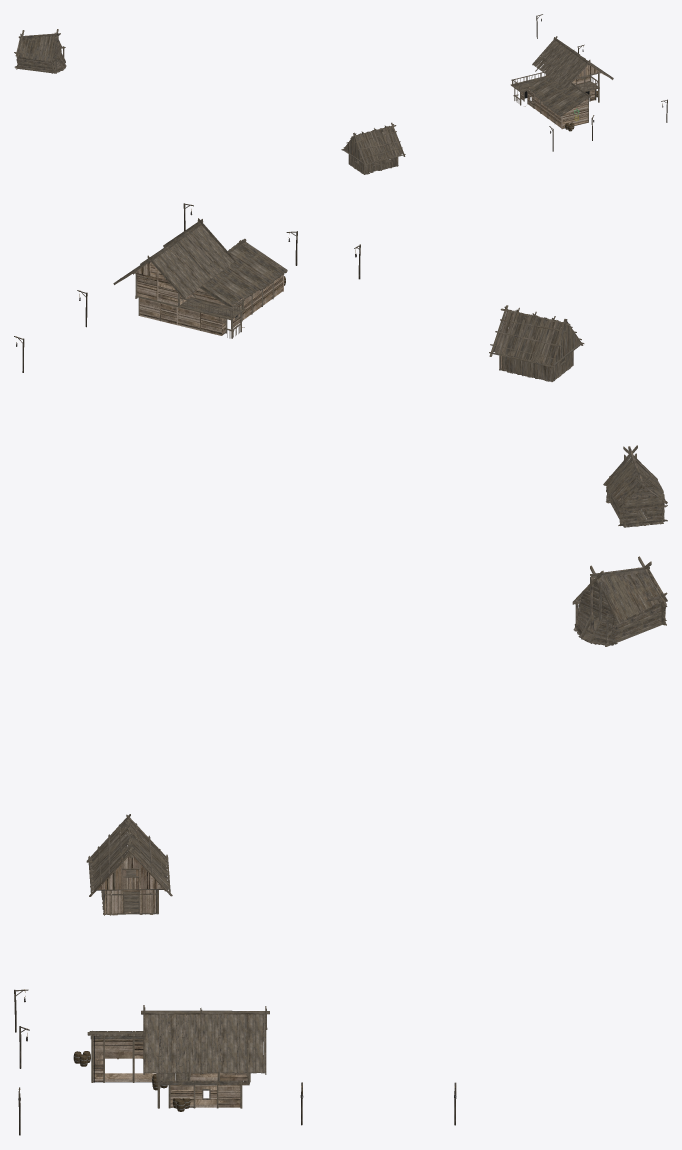
Rendered from village_v5.glb.
The picture shows the model from 3 angles, top to bottom: view 1: azimuth 30°, elevation 25°; view 2: azimuth 150°, elevation 25°; view 3: azimuth 270°, elevation 25°; orthographic projection. The views are drawn at different scales.
Parts seen in each view (by area): view 1: Cantina_Main_v2, House_01_v2, Small_Hut_v2; view 2: Cantina_Main_v2, House_01_v2, Small_Hut_v2; view 3: Cantina_Main_v2, House_01_v2, Small_Hut_v2.
Part boxes in pixels (x1,y1,x2,y2): Cantina_Main_v2: (510, 36, 613, 129); House_01_v2: (341, 122, 405, 174); Small_Hut_v2: (14, 29, 66, 73); Cantina_Main_v2: (113, 218, 287, 338); House_01_v2: (489, 305, 584, 381); Small_Hut_v2: (603, 445, 667, 527); Cantina_Main_v2: (87, 1005, 269, 1108); House_01_v2: (86, 814, 172, 915); Small_Hut_v2: (572, 556, 667, 646).
Bounding box in the file's own units: 101 × 17.47 × 63.89.
Materials: 14 (9 with a texture image).
